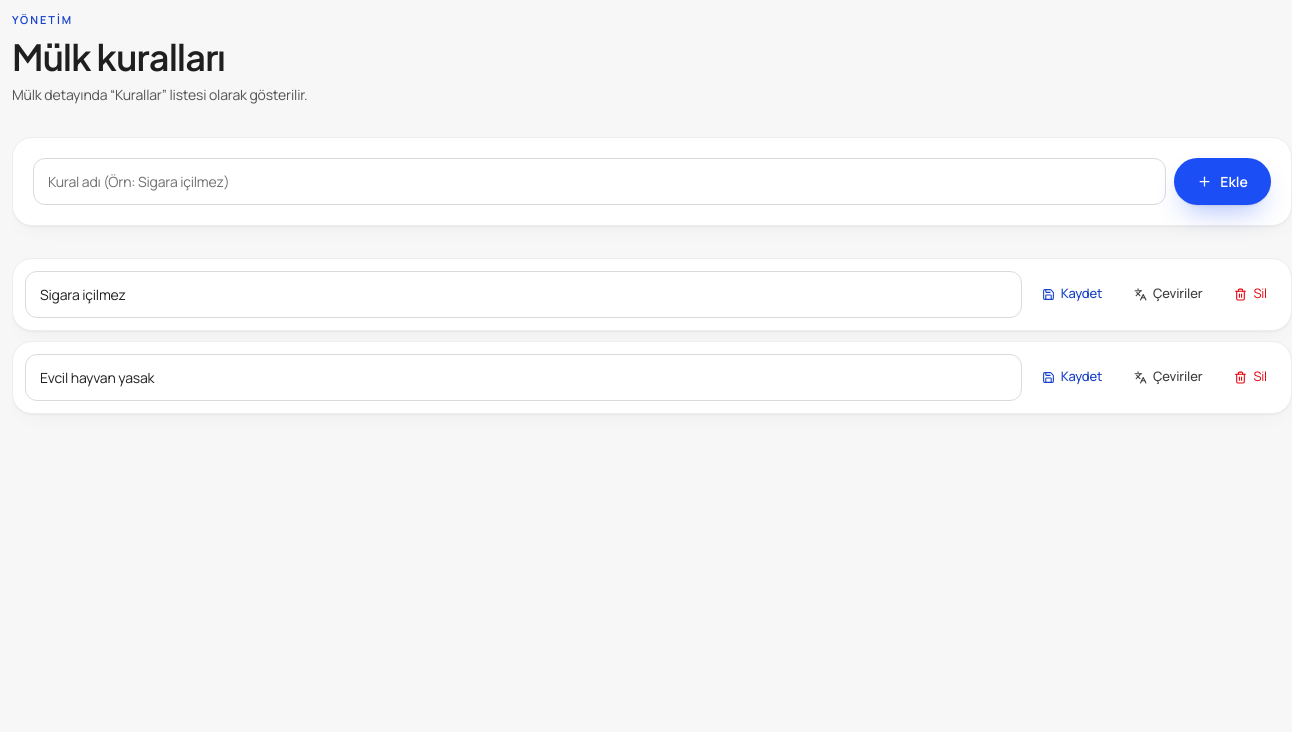
RulesPage — Phase 10D Batch 3 — panel açma/kapama + tab mekaniği › 5) Yalnız ilgili satırın paneli açılır
Step 1. Click the button with aria-label "çevirileri" → (1168, 294), box [1122, 276, 1214, 312]
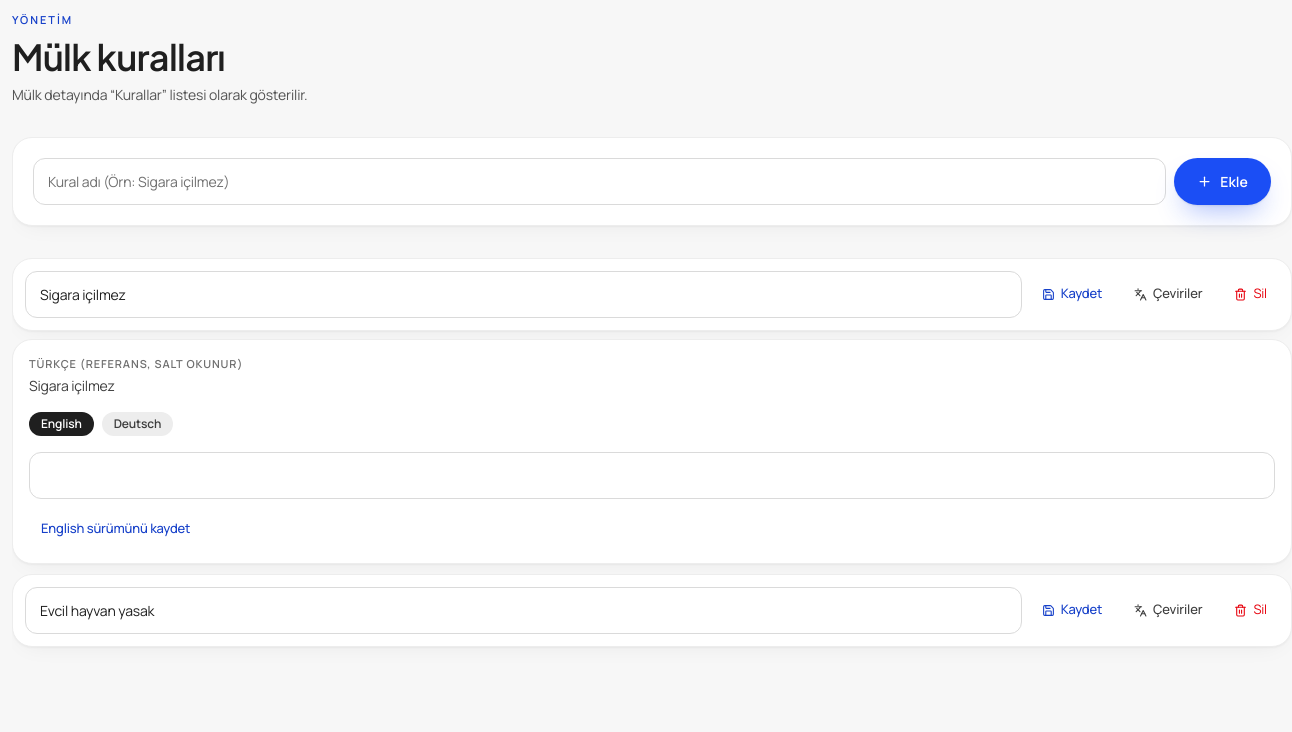
Expected: the text "Türkçe (referans, salt okunur)" is shown once, [29, 356, 243, 370]
